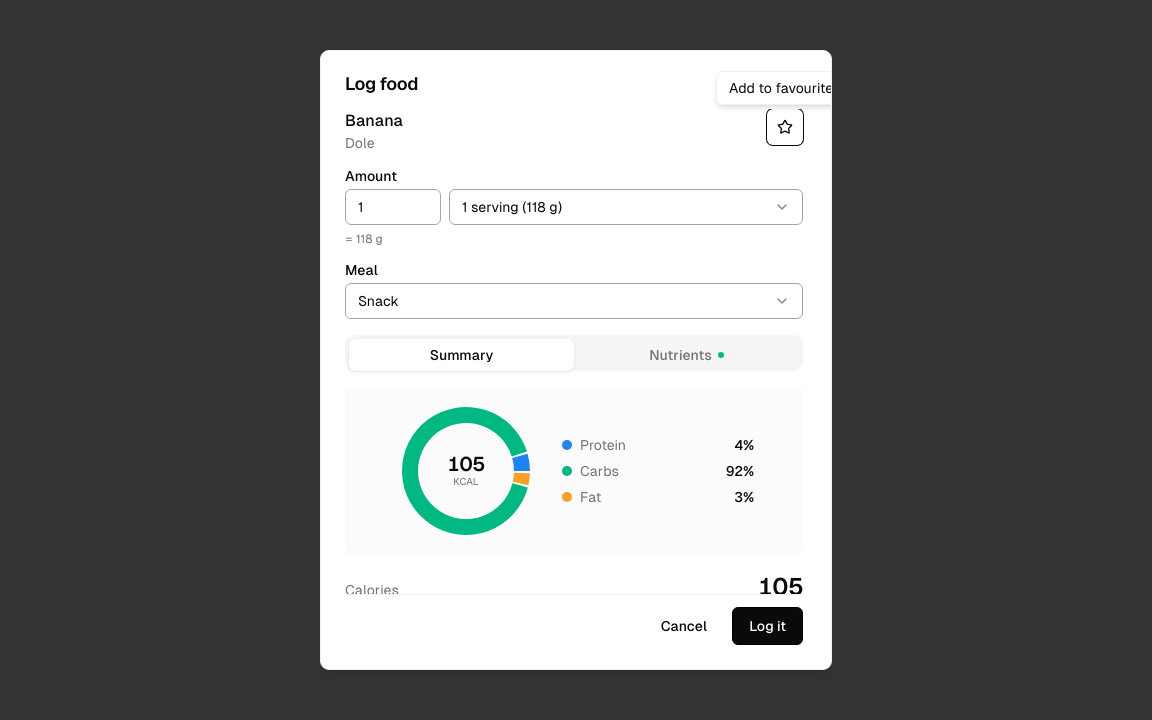
LogFoodDialog › shows goal impact and micronutrients when data and targets are present
Step 1. Click the tab with test id "tab-nutrients" → (686, 355), box 574,339 -> 799,371
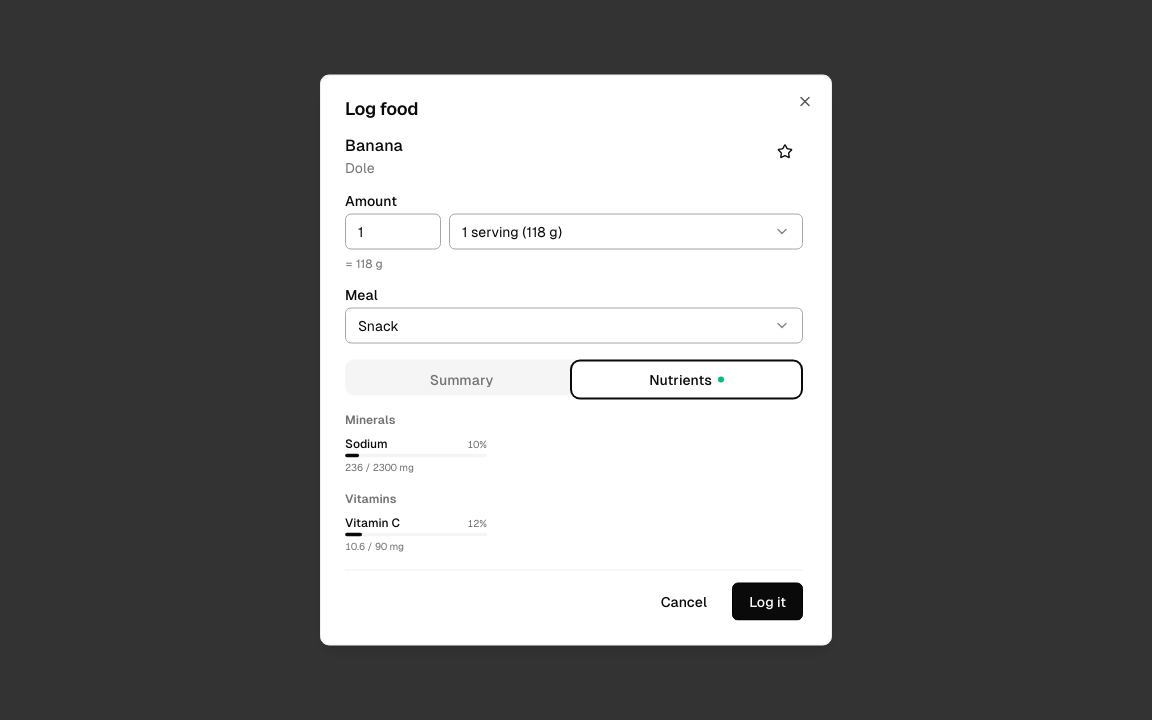
Check: the element with test id "preview-micro-sodium" is shown, box 345,436 -> 487,474
Check: the element with test id "preview-micro-vitaminC" is shown, box 345,514 -> 487,554
